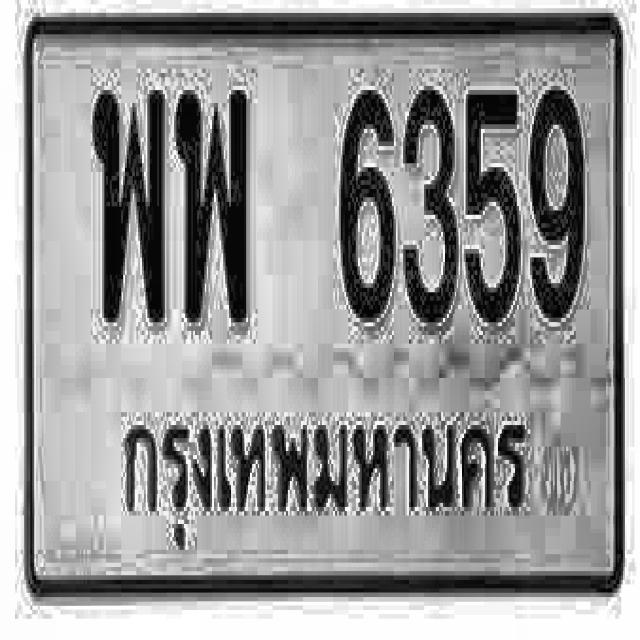license-plate: (15, 0, 634, 610)
